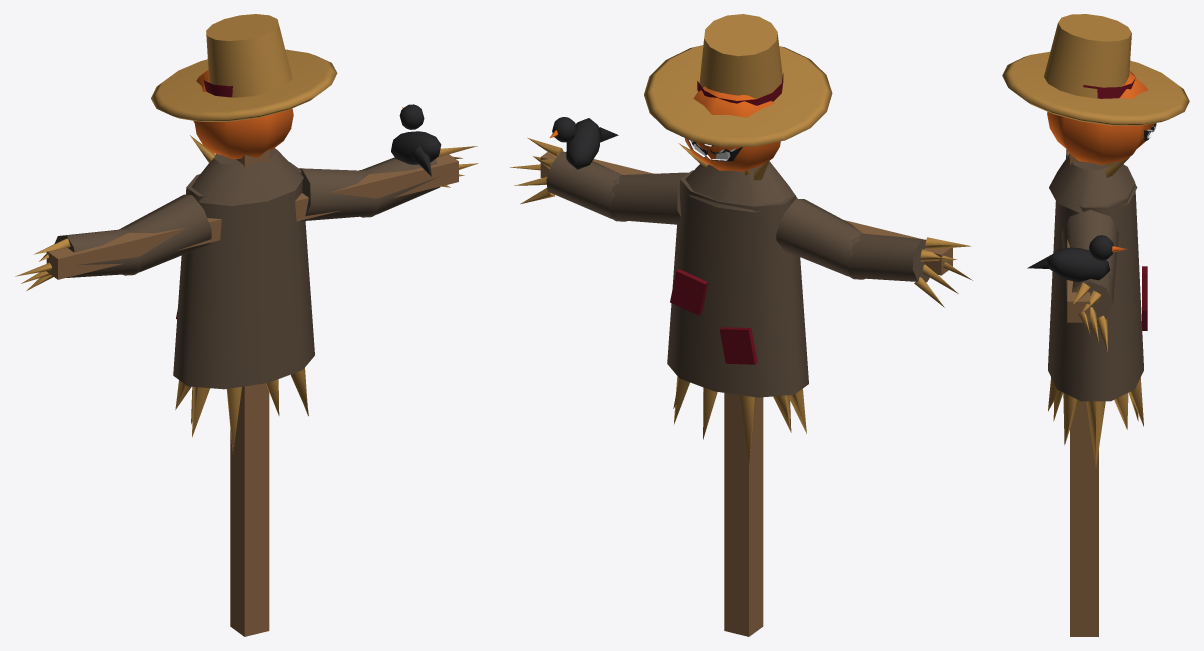
Rendered from GIANT_SCARECROW.glb.
3 renders of one model, left to right at view 1: azimuth 30°, elevation 25°; view 2: azimuth 150°, elevation 25°; view 3: azimuth 270°, elevation 25°, orthographic.
Visible parts, largest first — view 1: fabric_1, wood_0, straw_2, pumpkin_4, tread_5; view 2: fabric_1, straw_2, wood_0, velvet_3, pumpkin_4, tread_5; view 3: fabric_1, straw_2, wood_0, pumpkin_4, tread_5, velvet_3.
Part boxes in pixels (x1,y1,x2,y2): fabric_1: (54,148,440,389); wood_0: (46,149,458,636); straw_2: (15,14,478,454); pumpkin_4: (193,70,403,159); tread_5: (391,104,441,176); fabric_1: (546,152,929,397); straw_2: (510,14,972,463); wood_0: (540,151,952,636); velvet_3: (670,73,783,364); pumpkin_4: (549,86,780,171); tread_5: (552,117,742,169); fabric_1: (1048,149,1143,401); straw_2: (1002,14,1189,467); wood_0: (1067,150,1098,636); pumpkin_4: (1047,71,1154,252); tread_5: (1027,123,1155,282); velvet_3: (1083,78,1147,330).
Bounding box in the file's own units: 9.4 × 11.65 × 3.26.
